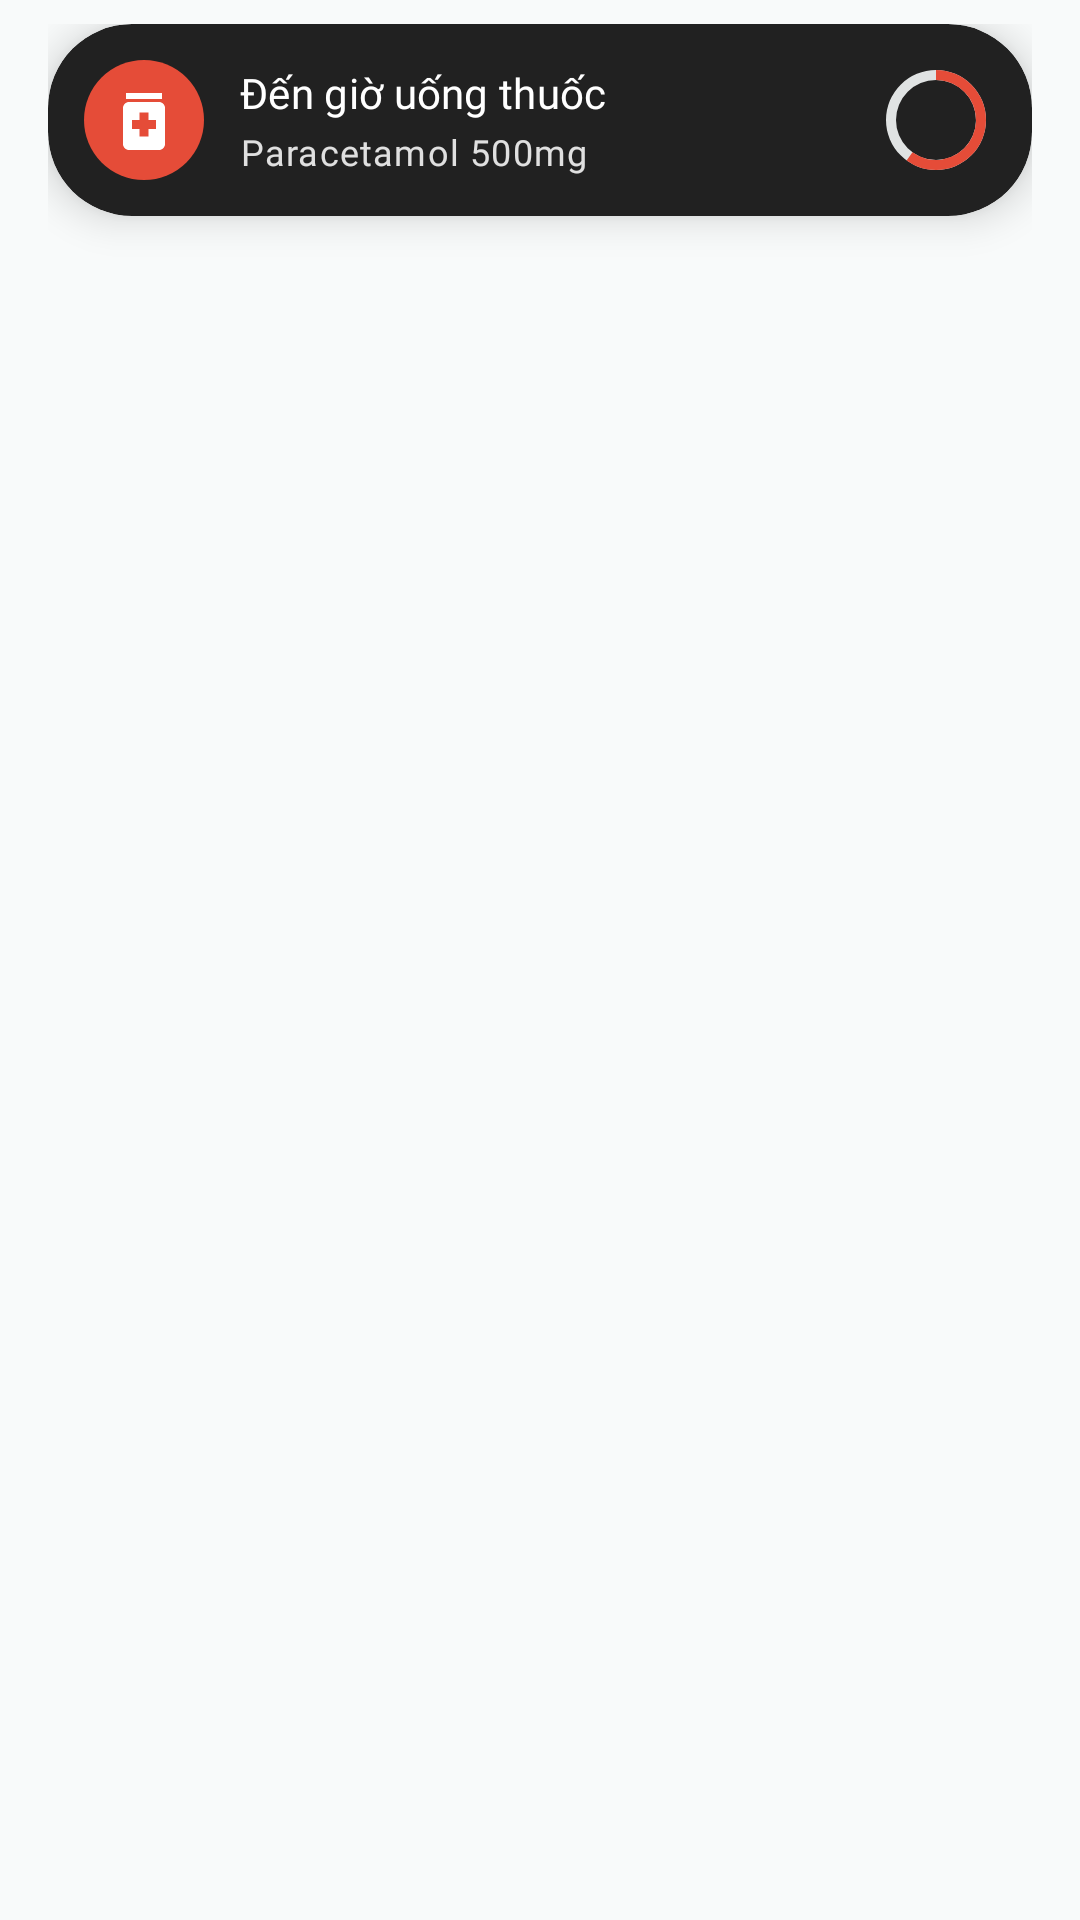

Named icons in this screenshot (1080 x 1920) and their centers, (x=x, y=y):
medication: (x=144, y=121)
